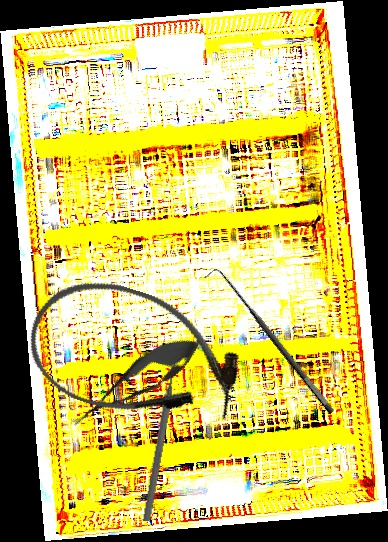Cannula: (14, 263, 255, 445)
Hook Surgical: (204, 262, 337, 424)
Micro Scissor: (63, 323, 210, 440)
Pusher: (141, 346, 183, 523)
